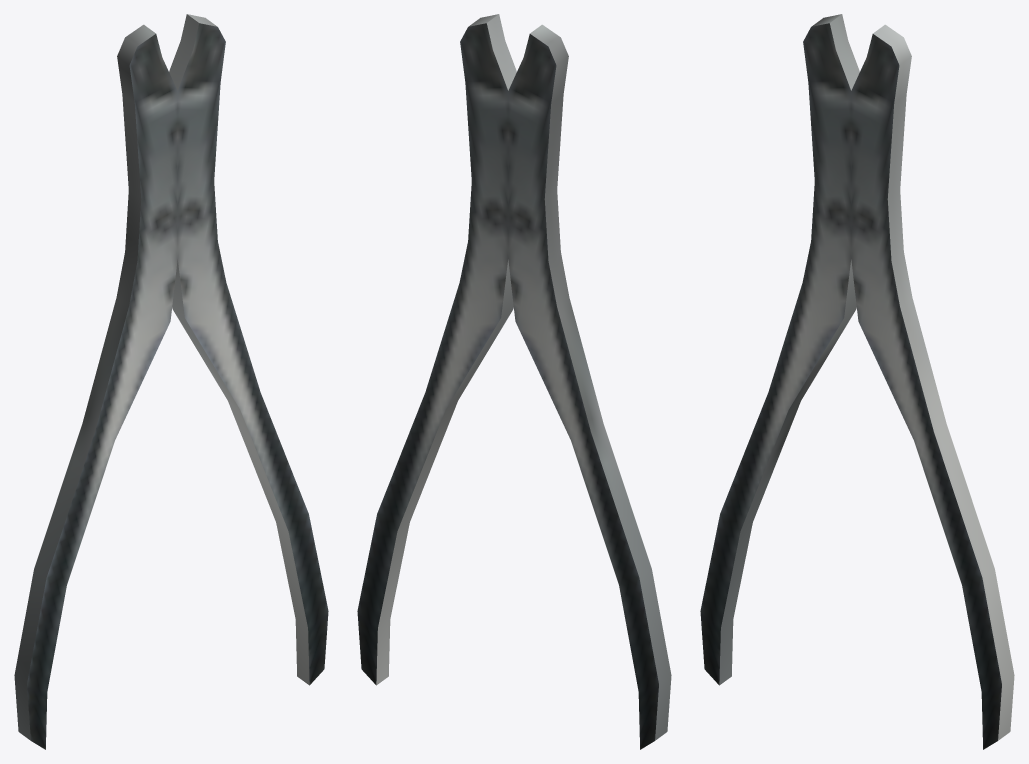
Rendered from bone_cutter.FBX.
3 views of the same model, side by side, from view 1: azimuth 30°, elevation 25°; view 2: azimuth 150°, elevation 25°; view 3: azimuth 330°, elevation 25° (orthographic).
Parts seen in each view (by area): view 1: bone_cutter; view 2: bone_cutter; view 3: bone_cutter.
Part boxes in pixels (x1,y1,x2,y2): bone_cutter: (14,14,328,749); bone_cutter: (357,14,671,749); bone_cutter: (700,14,1014,749).
Size of the model in its own units: 14.04 by 30.66 by 1.
